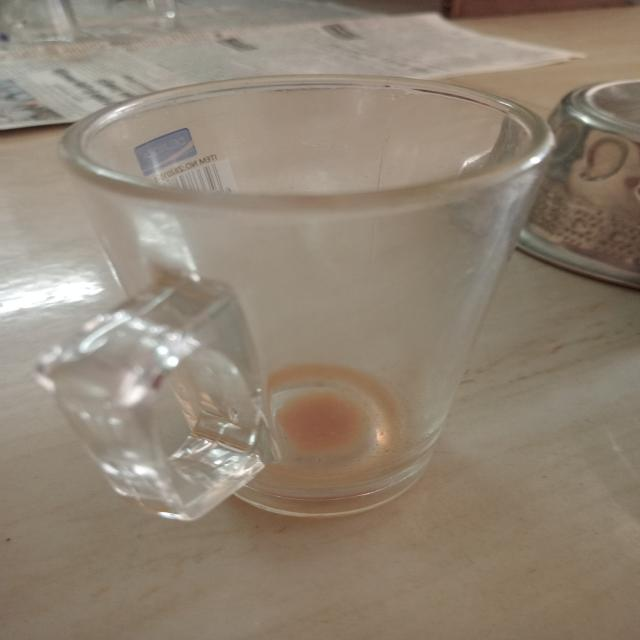glass-VX4N: (32, 75, 555, 521)
